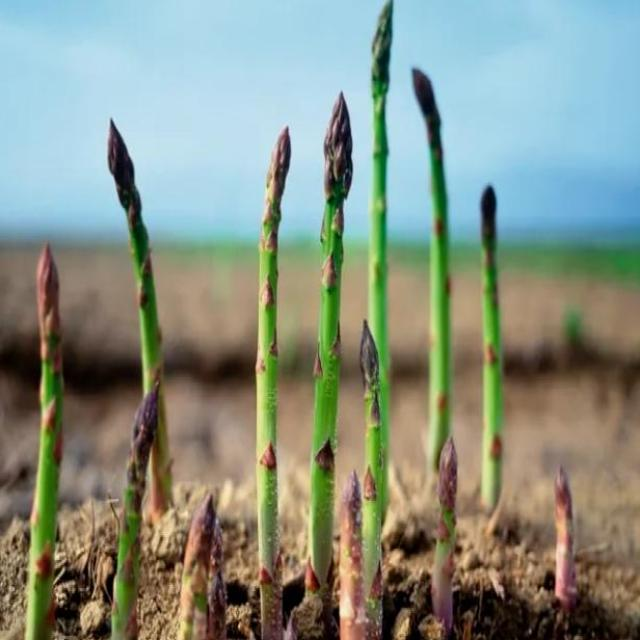aspargus: (256, 128, 292, 640)
